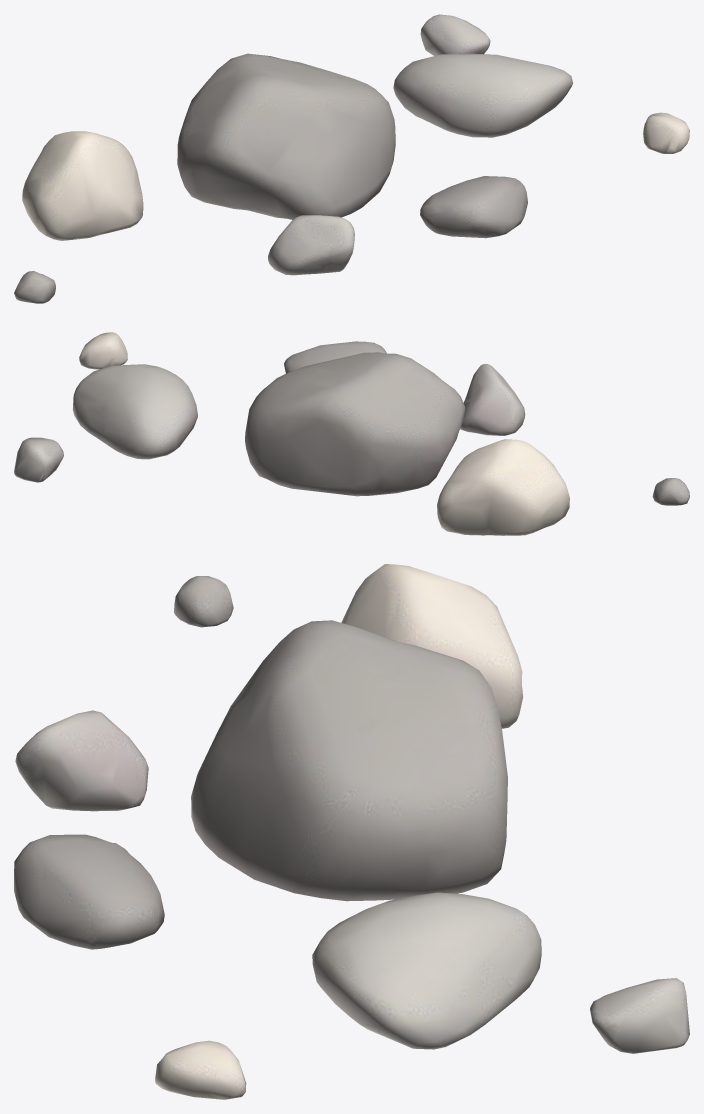
File: small-rock-set.glb
3 views of the same model, one above another, from view 1: azimuth 30°, elevation 25°; view 2: azimuth 150°, elevation 25°; view 3: azimuth 270°, elevation 25° (orthographic). The views are drawn at different scales.
Visible parts, largest first — view 1: small-rock-set_body; view 2: small-rock-set_body; view 3: small-rock-set_body.
Boxes of the visible parts, x1=… form: small-rock-set_body: x1=14, y1=14, x2=689, y2=303; small-rock-set_body: x1=14, y1=332, x2=689, y2=535; small-rock-set_body: x1=14, y1=564, x2=689, y2=1099.
Size of the model in its own units: 0.9526 by 0.17 by 0.5412.
Materials: 1 (1 with a texture image).
